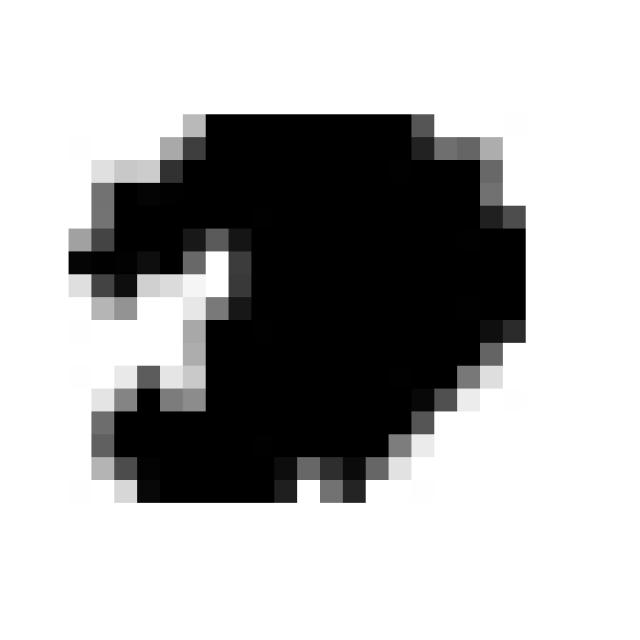0 -zero-: (62, 94, 545, 529)
